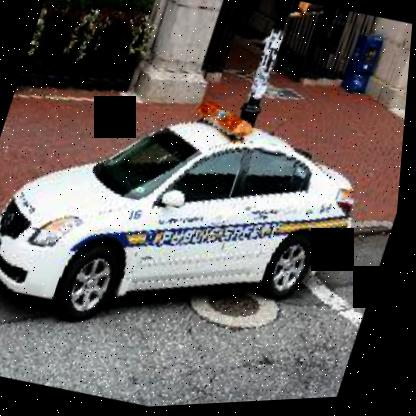emergency: (0, 59, 398, 404)
